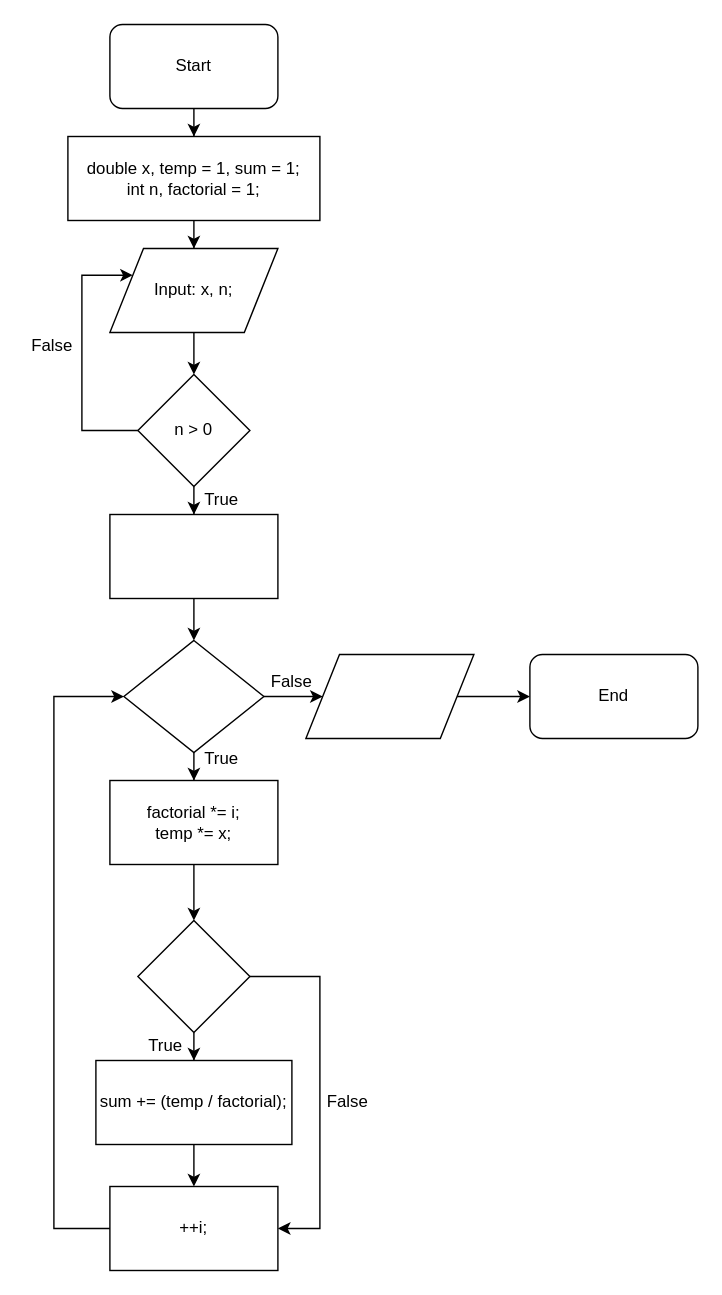
The diagram is 722 pixels wide and 1295 high, and some of its shapes have lost their labels. Here are the shapes that lost their labels. From the top down, the box of each, then its label:
(108, 513, 278, 598): int i = 1;
(122, 639, 264, 752): i <= (2*n + 1)
(304, 653, 474, 738): Output: sum;
(136, 919, 250, 1032): (i % 2) != 0
